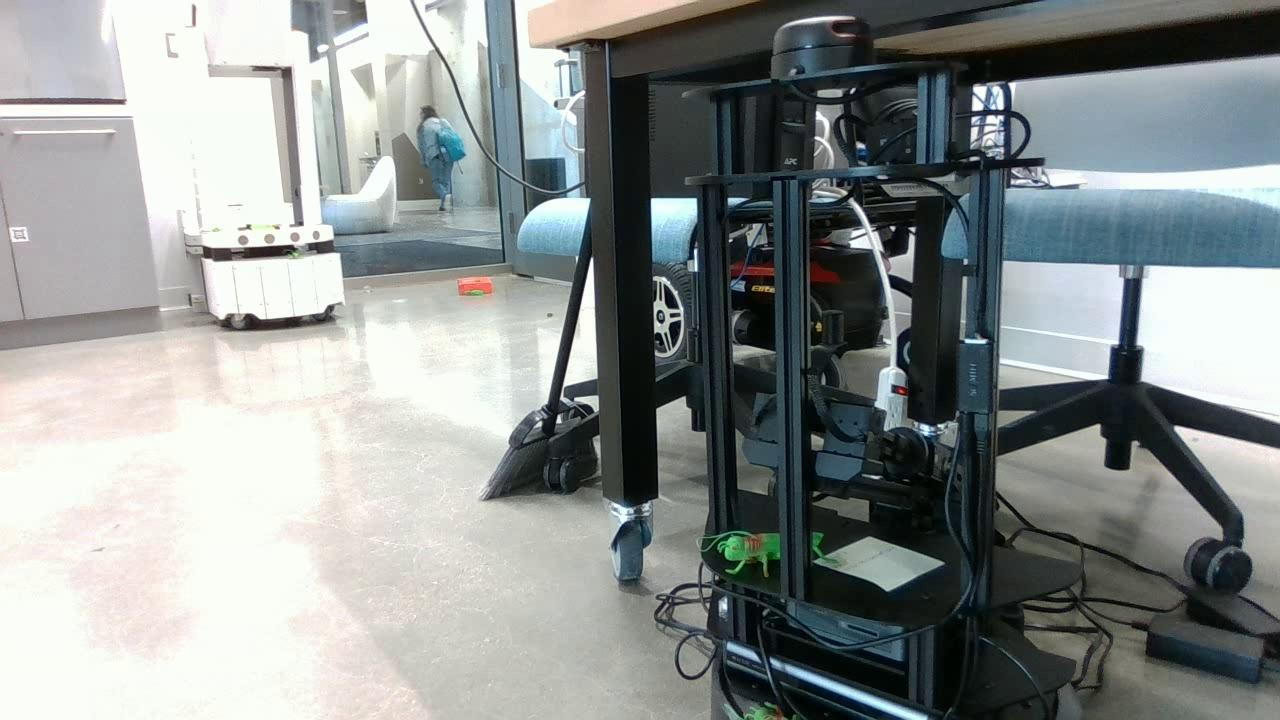grasshopper: (718, 530, 837, 574), (742, 699, 809, 720), (463, 289, 486, 297)
